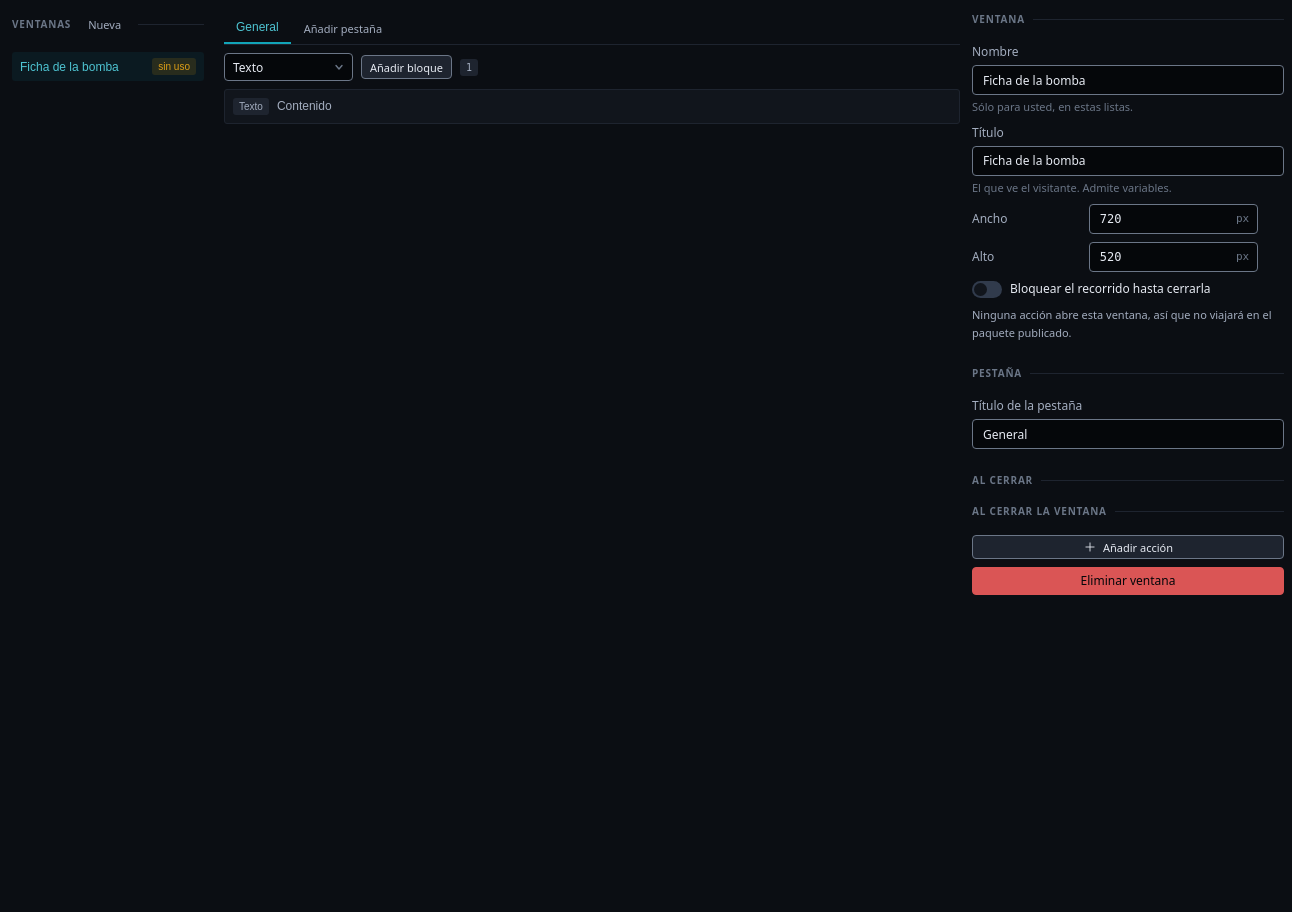
Test: InfoWindowsModule › TEST-IWM-009 un contenido web a la red interna impide publicar y se dice
The image size is (1292, 912).
Select "Contenido web" in the dropdown named "Tipo de bloque" at (288, 67), box [224, 53, 353, 81]
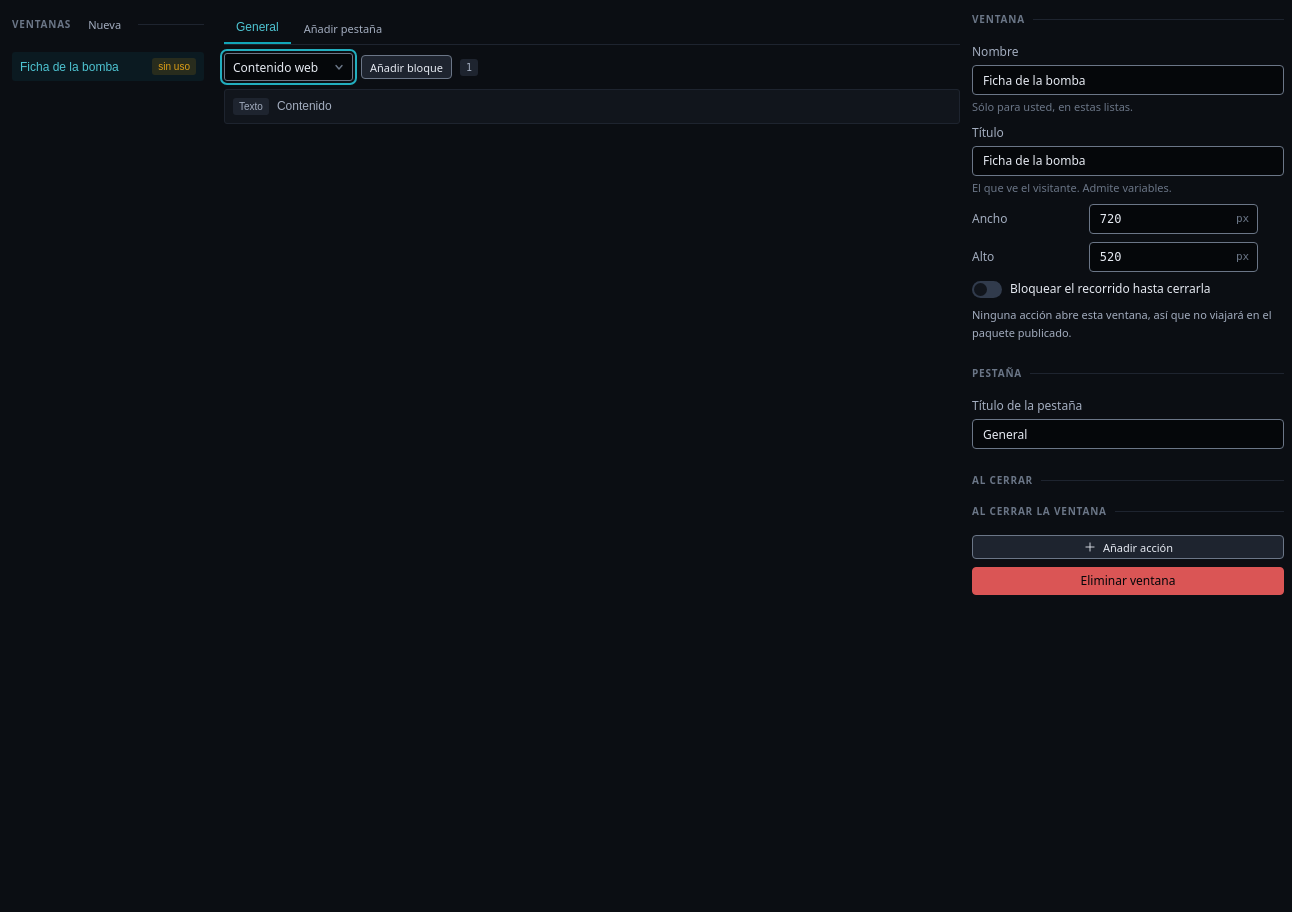
Click the button "Añadir bloque".
click(406, 67)  # box [361, 55, 452, 79]
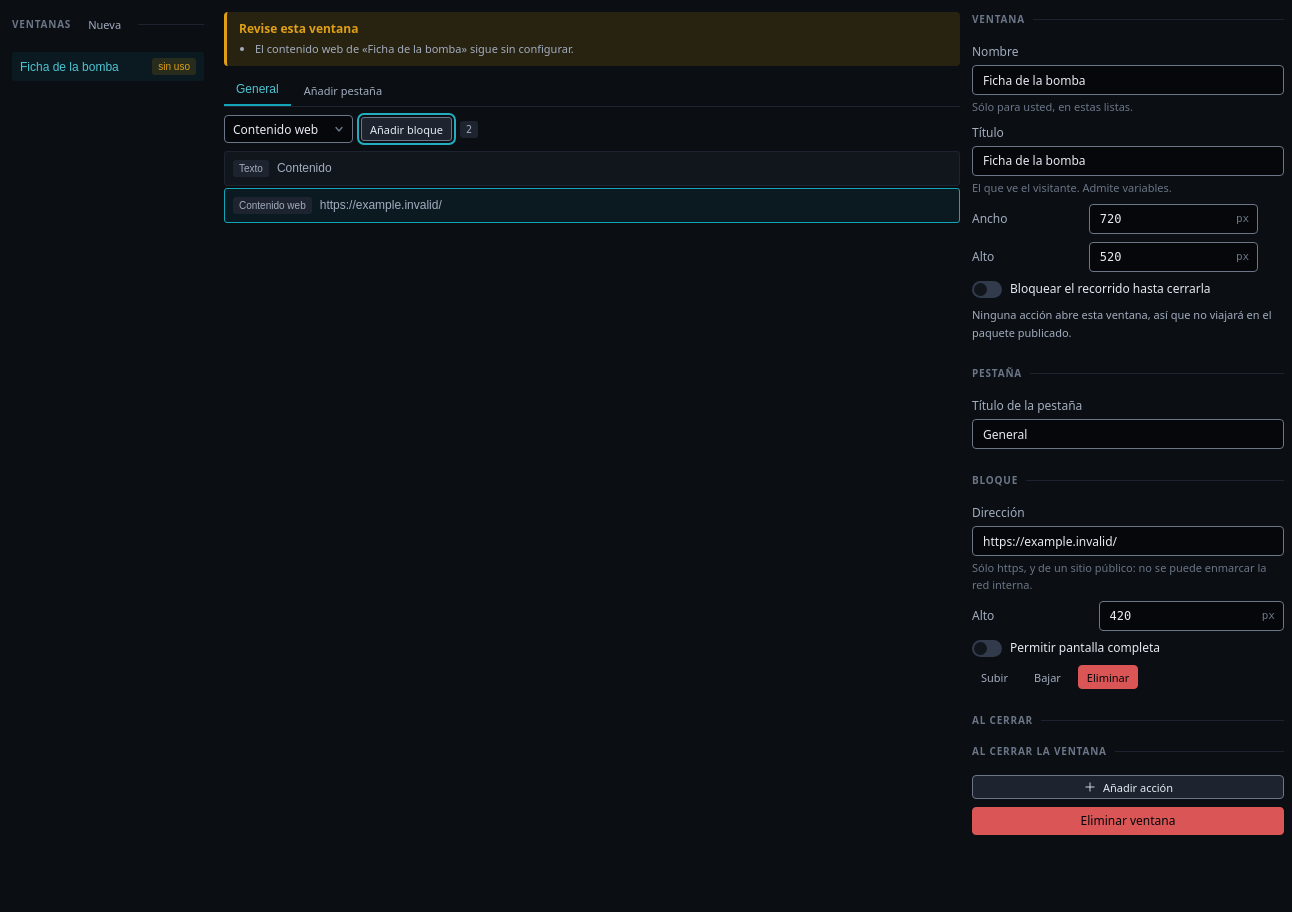
Replace the text in the field labelled "Dirección" with "https://192.168.1.10/camara" at (1128, 541), box [981, 532, 1275, 551]
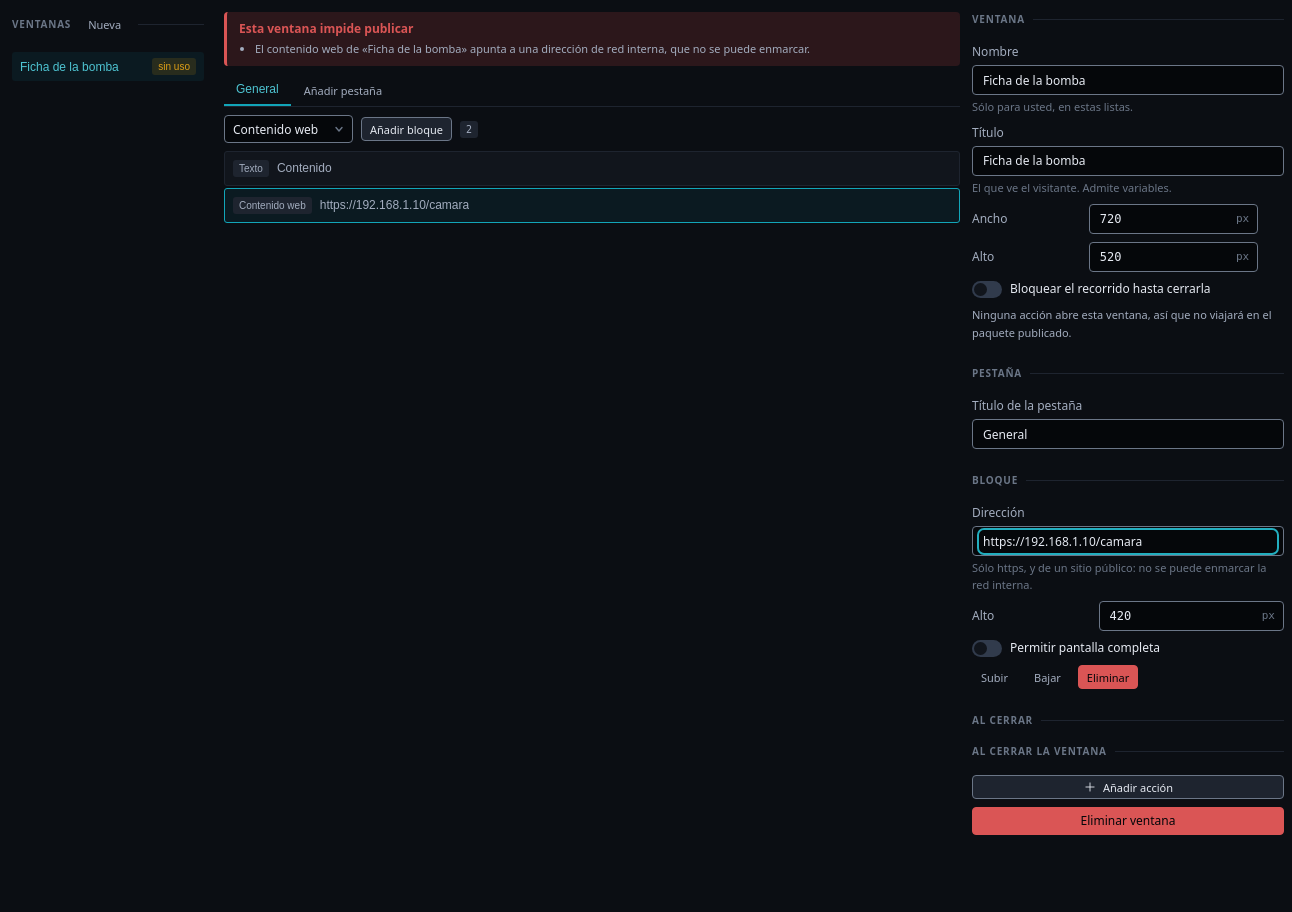
Now the text "Esta ventana impide publicar" is shown, box [239, 20, 414, 37]
Now the list item "red interna" is shown, box [255, 41, 810, 56]
